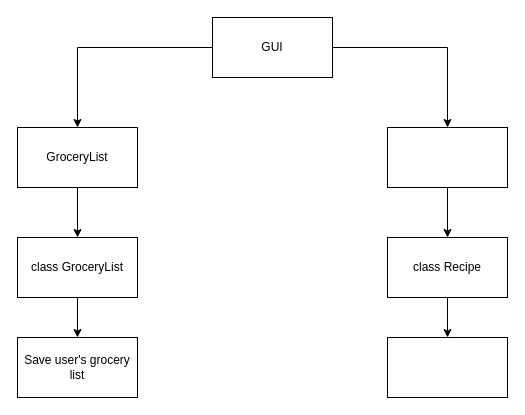
The diagram is 525 pixels wide and 415 high, and some of its shapes have lost their labels. Each missing label, with the centre of its shape:
"Database" goes at (x=447, y=367).
"Recipe" goes at (x=447, y=157).
